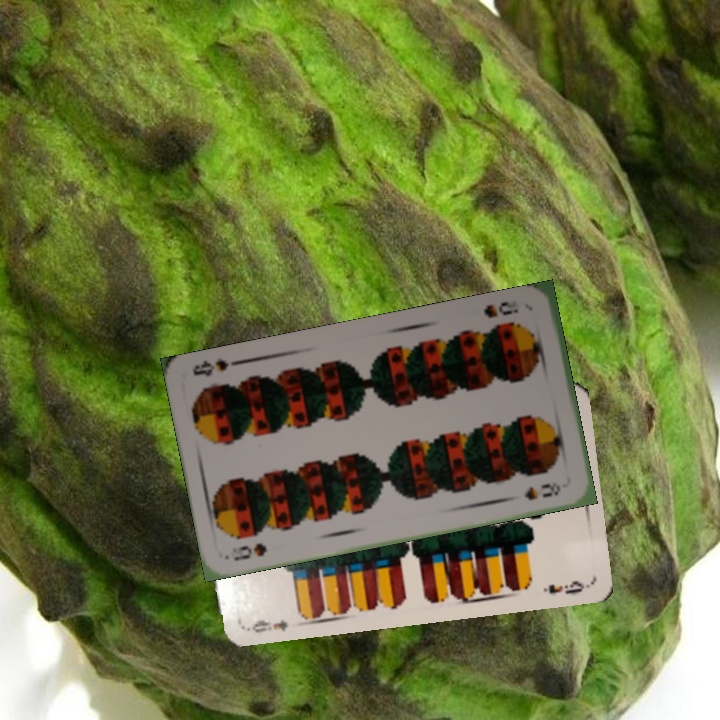E9: (242, 615, 291, 636)
S8: (480, 296, 521, 321), (230, 539, 270, 564)
